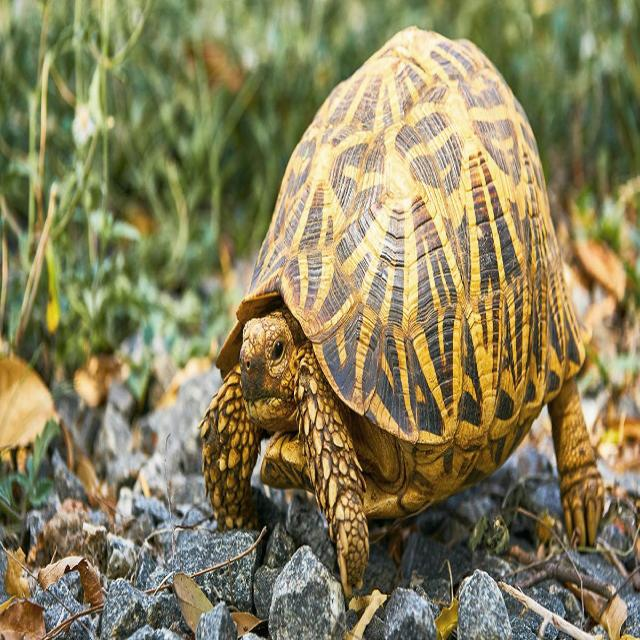turtle: (199, 28, 604, 597)
